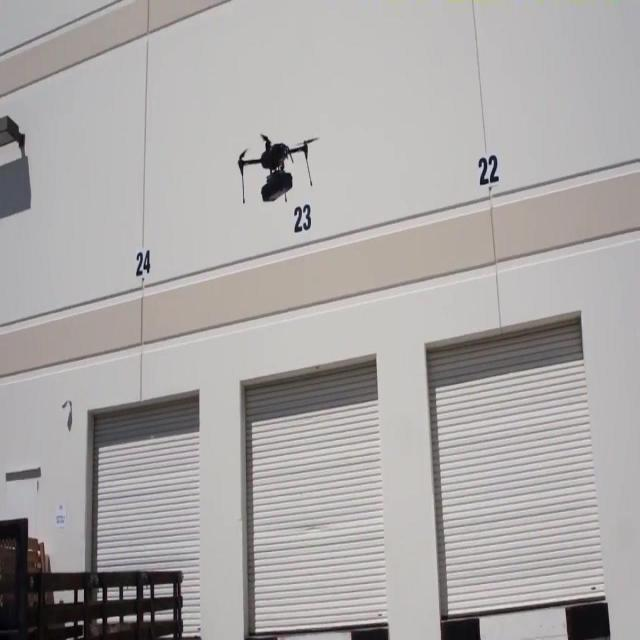UAV: (237, 133, 320, 205)
